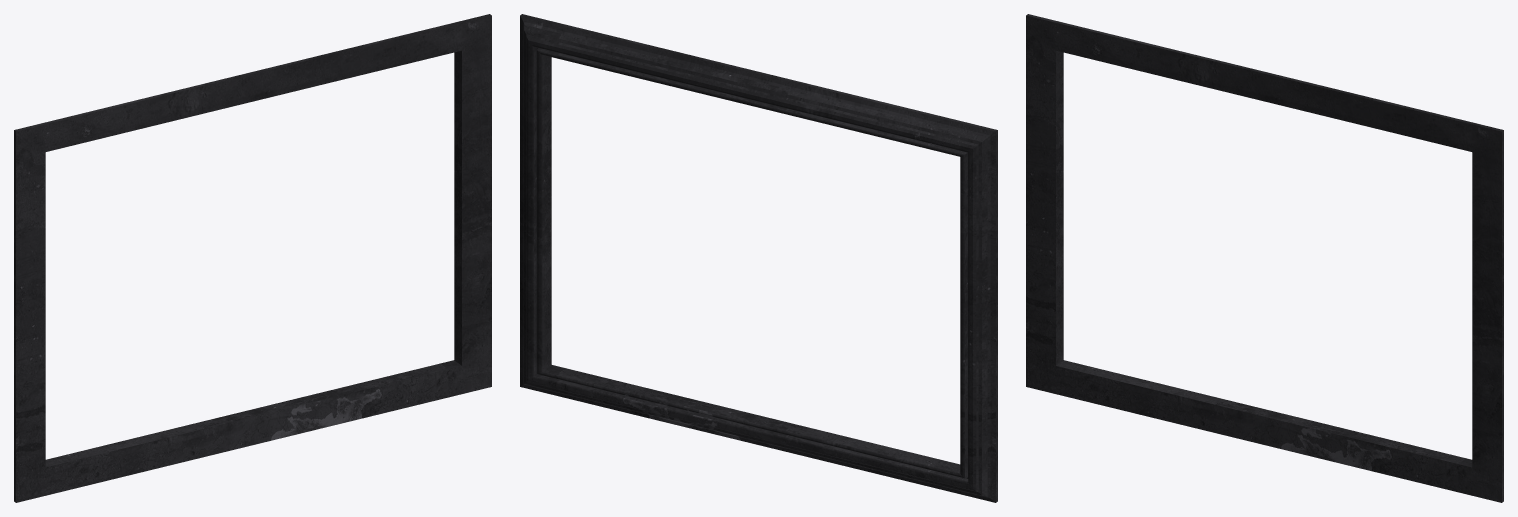
The model's file is frame7.glb.
3 views of the same model, side by side, from view 1: azimuth 30°, elevation 25°; view 2: azimuth 150°, elevation 25°; view 3: azimuth 330°, elevation 25° (orthographic).
Parts seen in each view (by area): view 1: Frame7; view 2: Frame7; view 3: Frame7.
Boxes of the visible parts, bbox=[...] form: Frame7: bbox=[14, 14, 491, 502]; Frame7: bbox=[520, 14, 997, 502]; Frame7: bbox=[1026, 14, 1503, 502].
Size of the model in its own units: 4.35 by 3.25 by 0.1478.
1 material, 1 textured.
